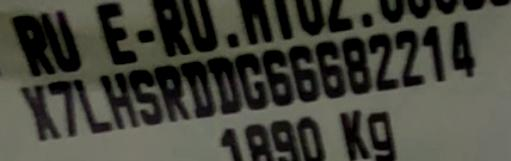letter: (15, 83, 64, 140), (98, 71, 141, 132), (73, 76, 113, 133), (207, 56, 245, 115), (180, 60, 218, 119), (126, 68, 163, 127), (154, 64, 192, 121), (234, 52, 269, 113), (368, 31, 400, 92), (341, 35, 373, 96), (314, 39, 347, 98), (45, 80, 78, 139), (288, 44, 321, 101), (262, 49, 295, 106), (393, 29, 425, 86), (419, 23, 447, 82), (450, 18, 477, 79)
